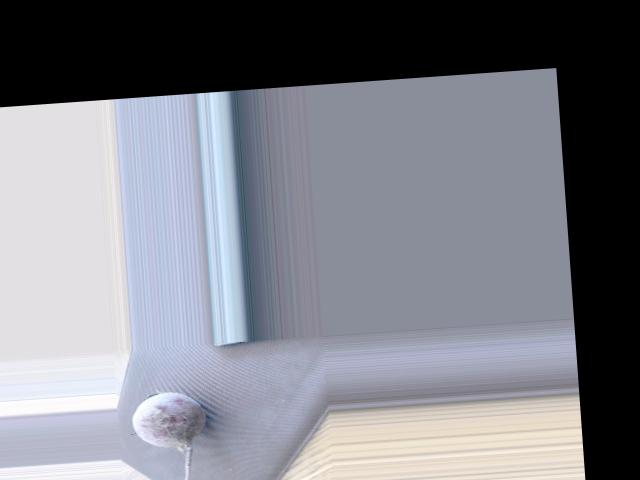beet: (131, 389, 211, 480)
